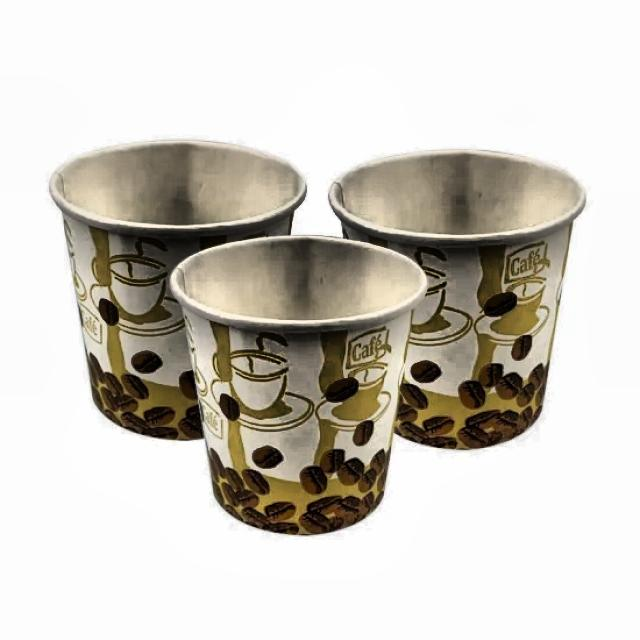Cup: (322, 136, 604, 461), (163, 232, 432, 560), (50, 136, 308, 452)
